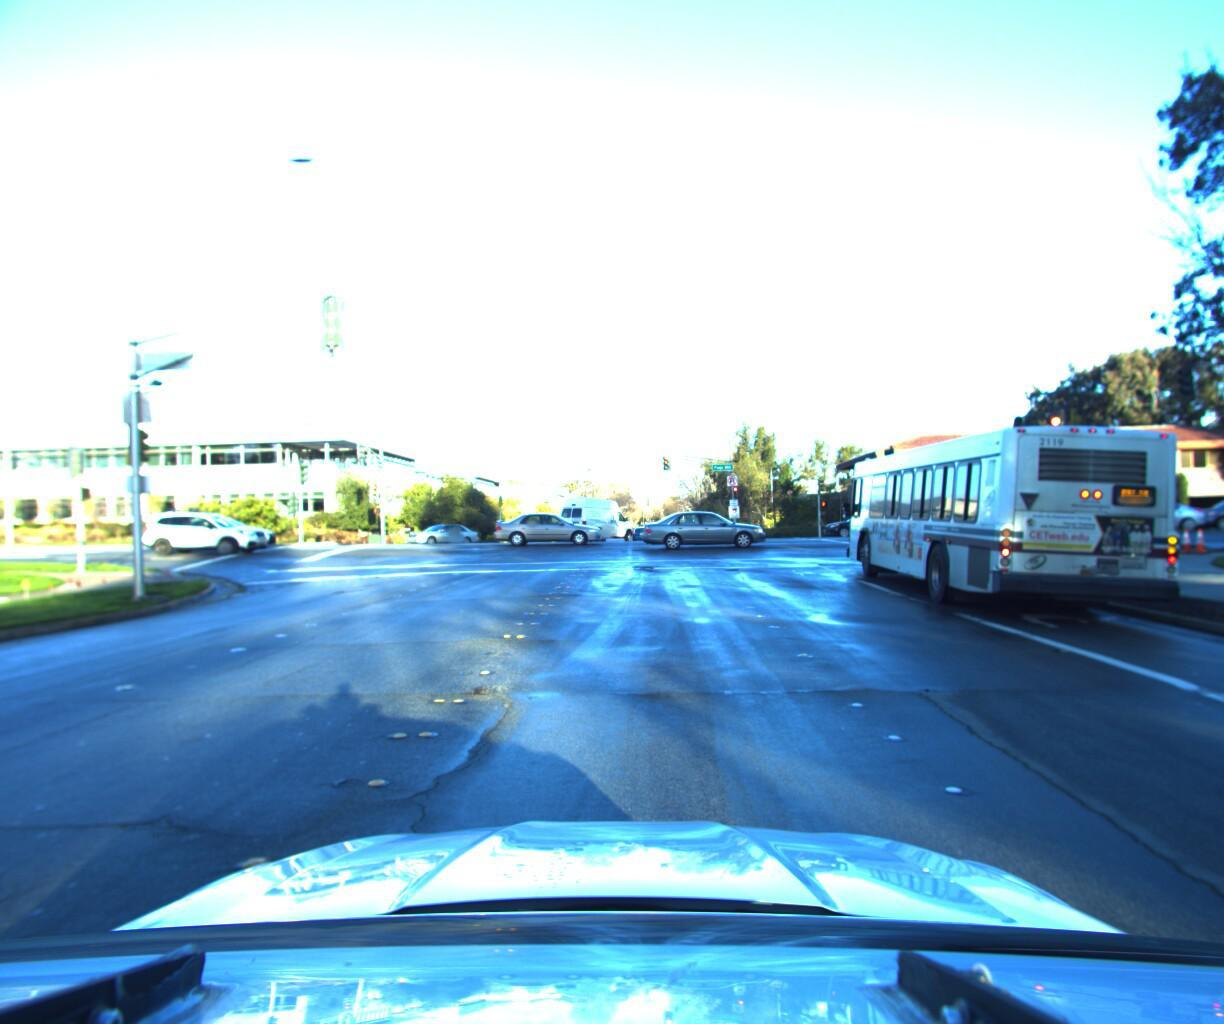bus: (835, 377, 1194, 622)
car: (145, 506, 280, 558), (638, 500, 763, 545), (493, 501, 608, 545), (1095, 487, 1218, 527), (173, 513, 291, 550), (551, 495, 642, 542), (818, 504, 910, 534), (403, 519, 484, 545), (1176, 481, 1224, 523), (1213, 485, 1224, 532), (628, 519, 651, 538)
